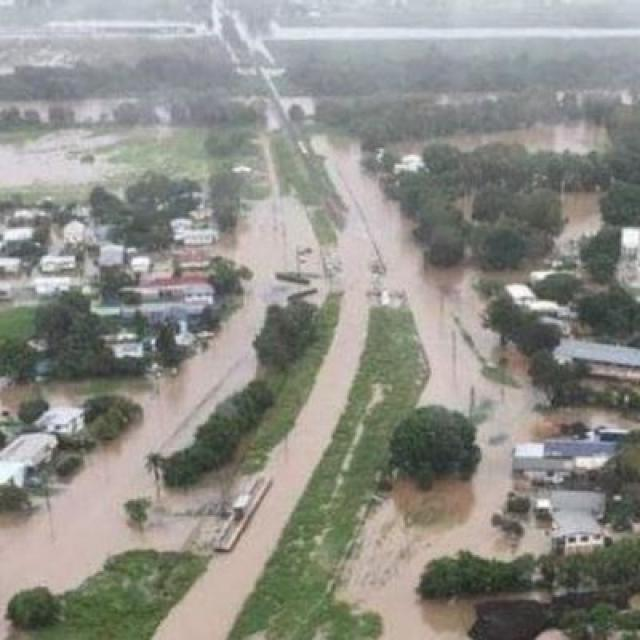flooded_areas: (5, 93, 638, 638)
